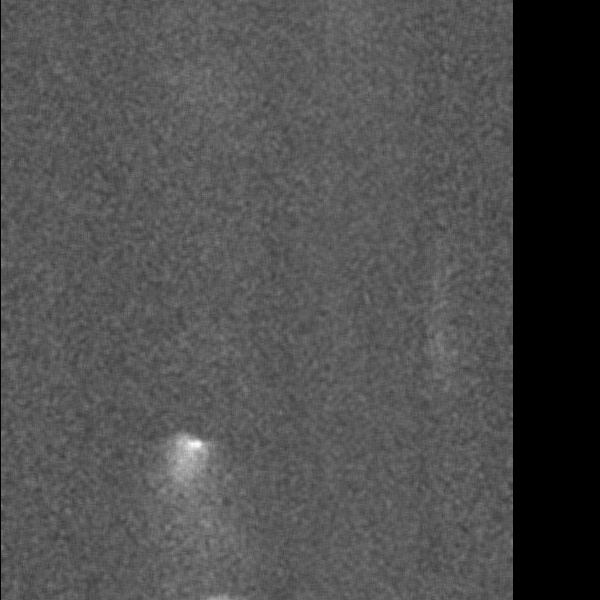spark: (455, 9, 509, 80), (434, 273, 488, 309), (470, 471, 508, 522), (408, 175, 443, 220), (93, 187, 121, 235), (439, 512, 475, 541), (363, 120, 387, 163), (185, 569, 221, 593), (131, 263, 151, 303), (449, 427, 474, 442)
